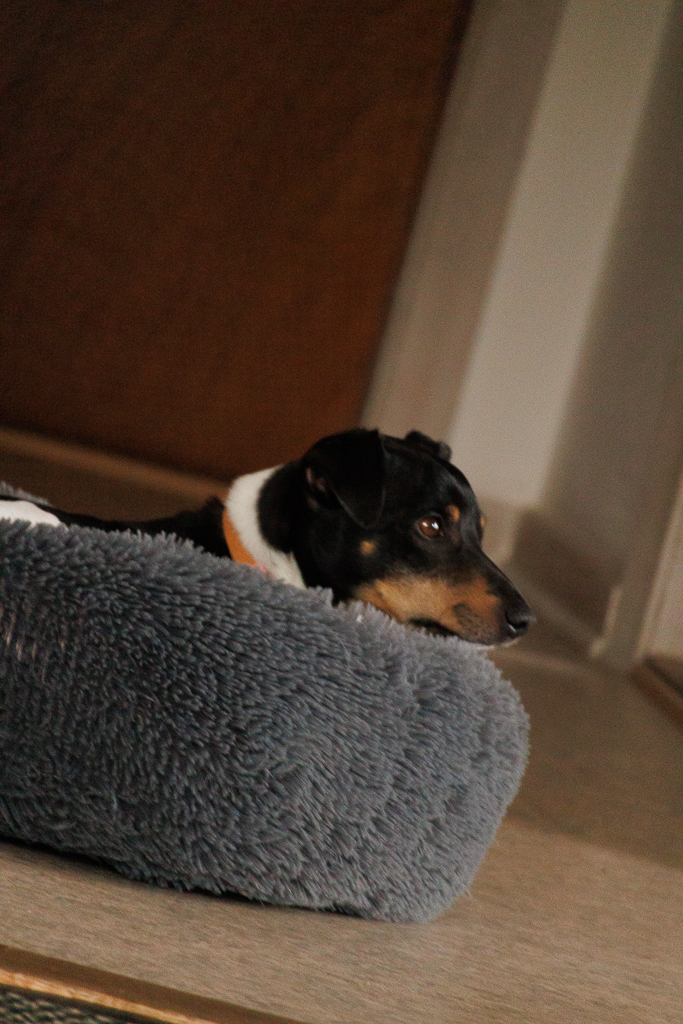Dog: (0, 416, 552, 663)
